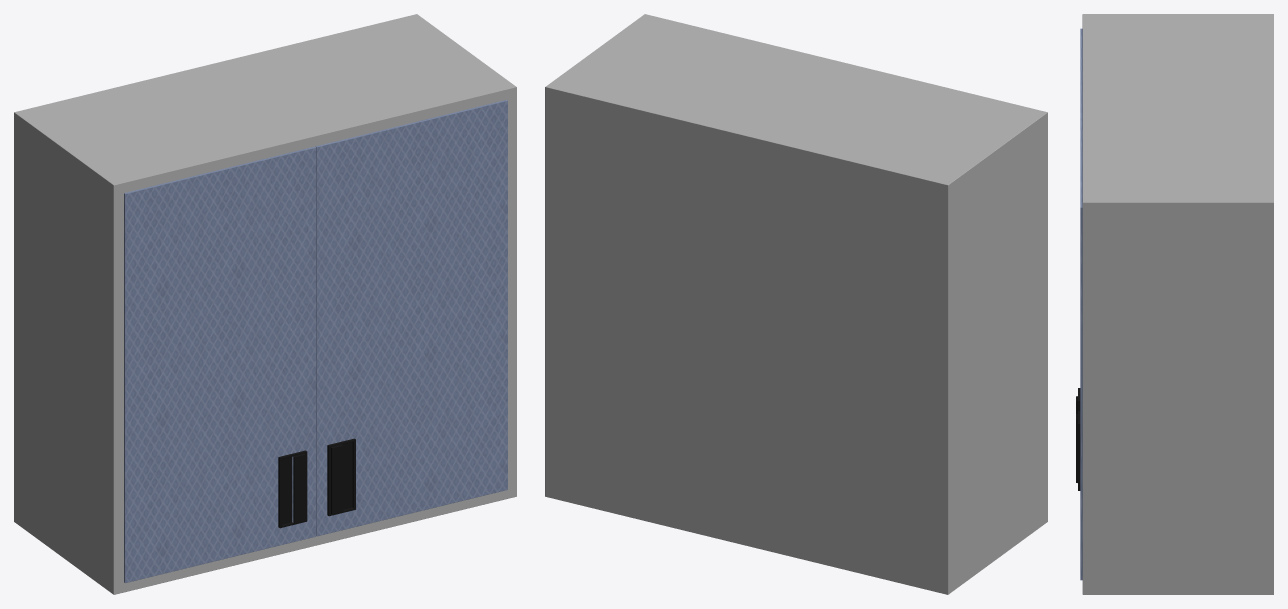
File: Shelf.fbx
The picture shows the model from 3 angles, left to right: view 1: azimuth 30°, elevation 25°; view 2: azimuth 150°, elevation 25°; view 3: azimuth 270°, elevation 25°; orthographic projection. The views are drawn at different scales.
Visible parts, largest first — view 1: Shelf, Door_L, Door_R; view 2: Shelf; view 3: Shelf, Door_R, Door_L.
Part boxes in pixels (x1,y1,x2,y2): Shelf: [14, 14, 516, 594]; Door_L: [124, 146, 316, 582]; Door_R: [315, 99, 507, 536]; Shelf: [545, 14, 1047, 594]; Shelf: [1082, 14, 1273, 594]; Door_R: [1076, 118, 1082, 580]; Door_L: [1076, 28, 1082, 413].
Bounding box in the file's own units: 70 × 68 × 31.06.
